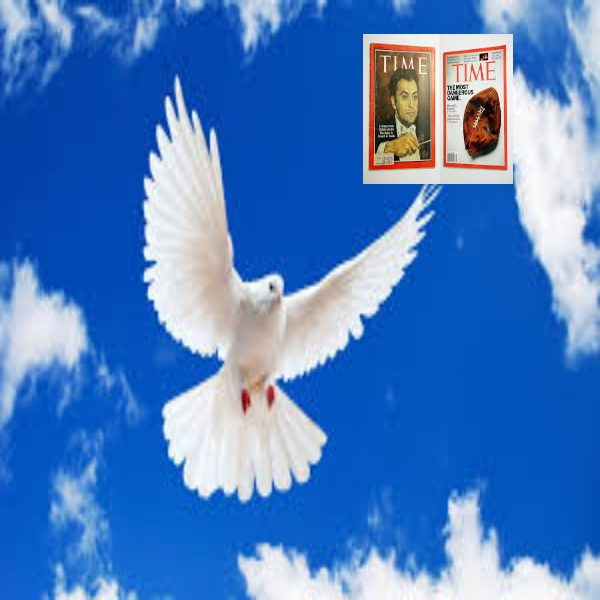time_cover: (352, 20, 519, 195)
